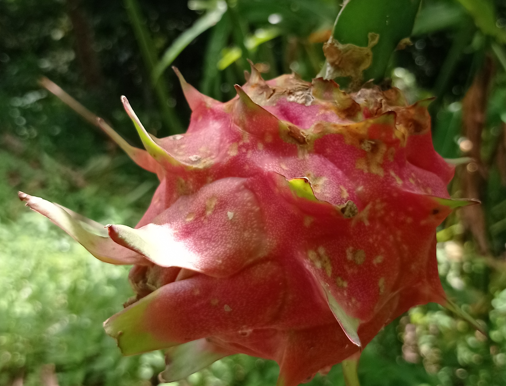Matang: (84, 55, 450, 332)
